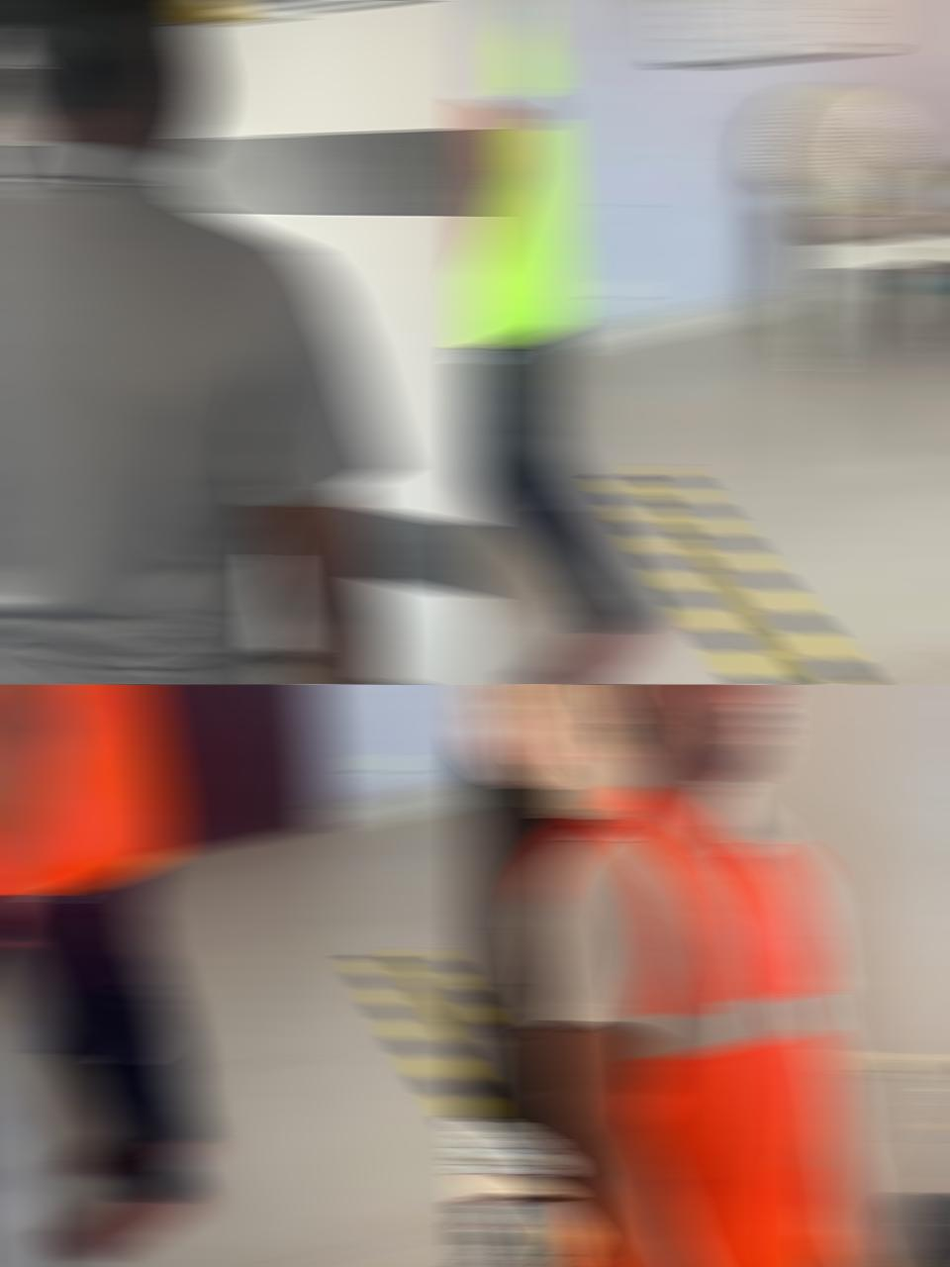BorderLine: (599, 462, 925, 684), (352, 944, 486, 1159)
Helmet: (573, 684, 820, 786)
No_Vest: (0, 142, 401, 684)
Person: (0, 0, 401, 684), (521, 684, 883, 1267), (464, 0, 662, 684), (0, 684, 209, 1264)
Vest: (523, 783, 837, 1267), (464, 0, 576, 348), (0, 684, 178, 895)
